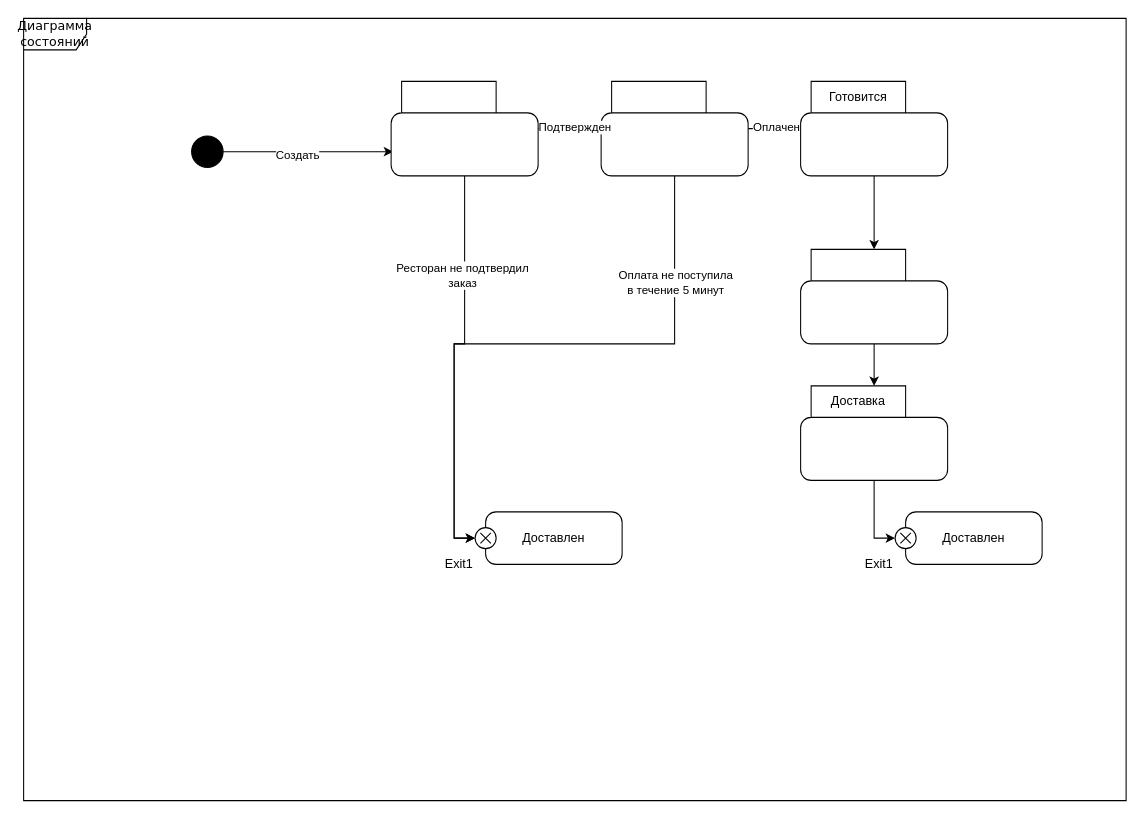
This 1145x819 diagram has some shape labels left out. Each missing label, with the box of its shape:
Ожидает оплаты: (600, 80, 748, 176)
Ожидает подтверждения: (390, 80, 538, 176)
Поиск курьера: (800, 248, 948, 344)
